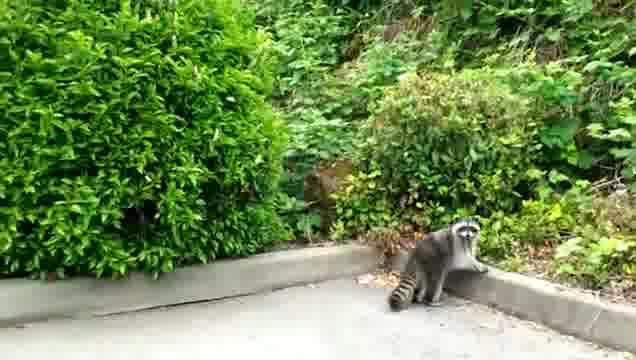raccoon: (387, 213, 490, 312)
